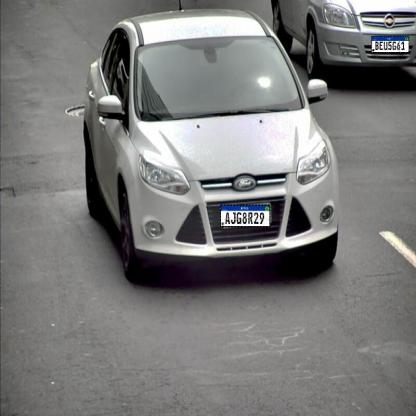PlacaM: (220, 204, 270, 228), (372, 36, 410, 53)
